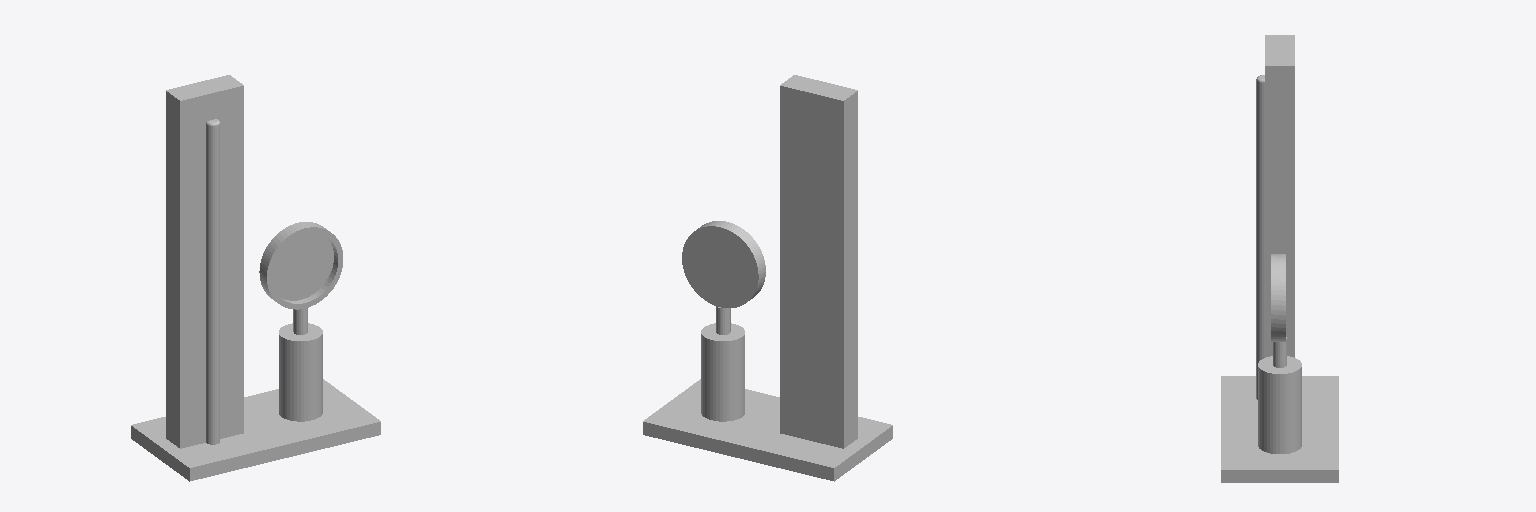
Rendered from Body3.obj.
The picture shows the model from 3 angles: view 1: azimuth 30°, elevation 25°; view 2: azimuth 150°, elevation 25°; view 3: azimuth 270°, elevation 25°; orthographic projection.
Visible parts, largest first — view 1: <STL_BINARY>; view 2: <STL_BINARY>; view 3: <STL_BINARY>.
Boxes of the visible parts, x1,y1,x2,y2 form: <STL_BINARY>: [131, 75, 380, 481]; <STL_BINARY>: [643, 75, 892, 481]; <STL_BINARY>: [1221, 35, 1338, 482].
Size of the model in its own units: 7.5 by 13.5 by 4.